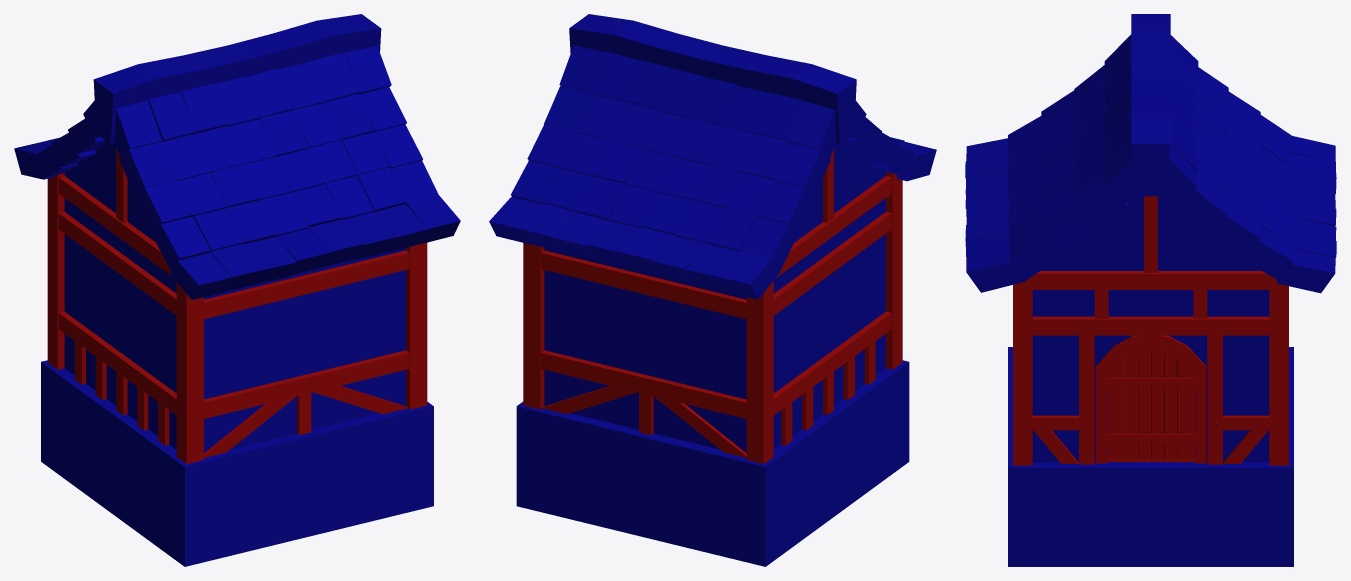
The picture shows the model from 3 angles, left to right: view 1: azimuth 30°, elevation 25°; view 2: azimuth 150°, elevation 25°; view 3: azimuth 270°, elevation 25°; orthographic projection.
Parts seen in each view (by area): view 1: wuding, diban, fang07, mnkuang; view 2: wuding, diban, fang07, mnkuang; view 3: wuding, diban, mnkuang, fang07, men.001.
Boxes of the visible parts, x1,y1,x2,y2 form: wuding: [14, 14, 460, 299]; diban: [41, 360, 433, 566]; fang07: [64, 142, 405, 452]; mnkuang: [47, 147, 427, 463]; wuding: [489, 14, 936, 299]; diban: [516, 360, 909, 566]; fang07: [544, 142, 885, 452]; mnkuang: [523, 149, 902, 464]; wuding: [965, 14, 1336, 293]; diban: [1008, 347, 1293, 566]; mnkuang: [1013, 196, 1288, 465]; fang07: [1032, 193, 1269, 462]; men.001: [1106, 345, 1195, 462].
Size of the model in its own units: 312 by 483 by 376.
